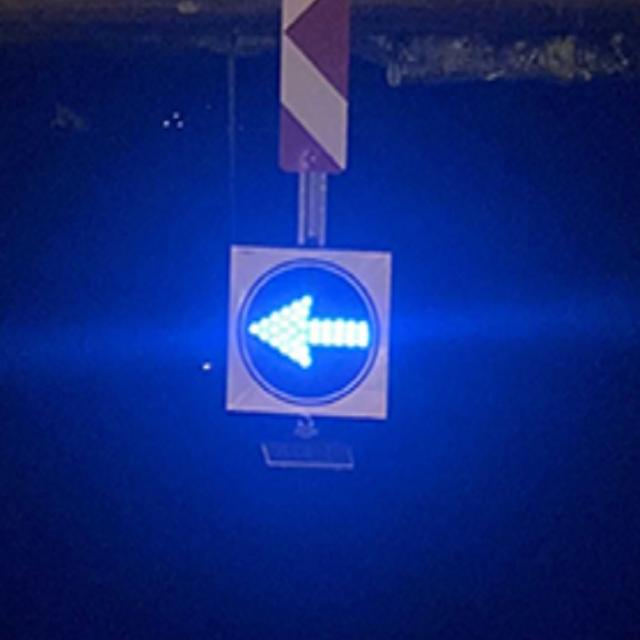Turn Left: (236, 244, 391, 415)
